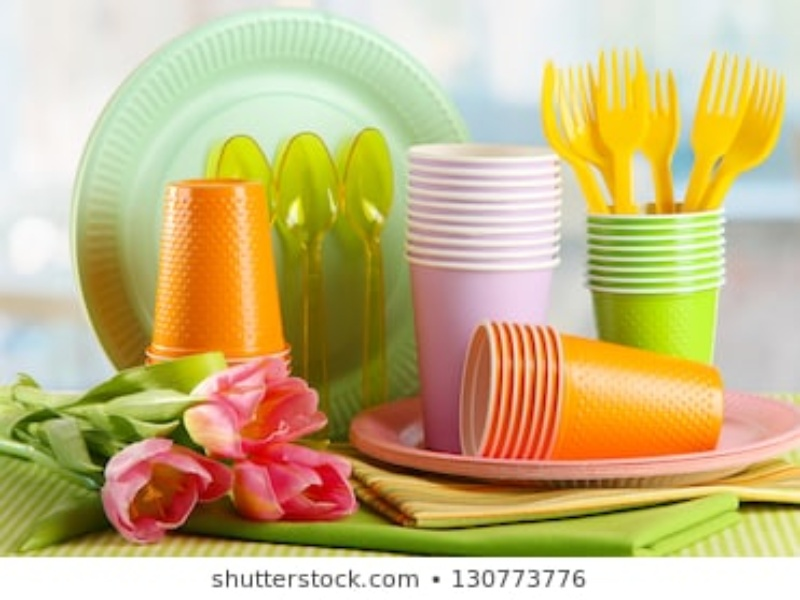plastic-cup: (404, 133, 566, 455), (463, 321, 723, 465), (143, 173, 297, 378), (585, 200, 743, 369)
plastic-plate: (69, 8, 464, 431)
plastic-silverware: (273, 133, 351, 421), (338, 116, 407, 408), (675, 45, 756, 206), (705, 59, 790, 203), (552, 60, 632, 210), (531, 54, 609, 202), (589, 47, 657, 208), (639, 63, 681, 205), (215, 132, 276, 209)
